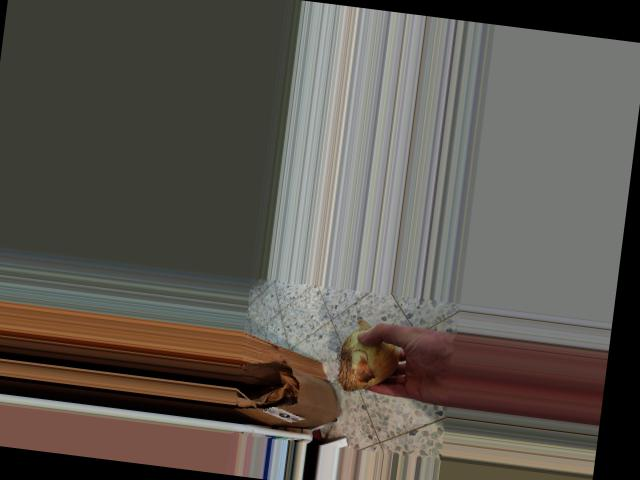onion: (328, 320, 407, 398)
